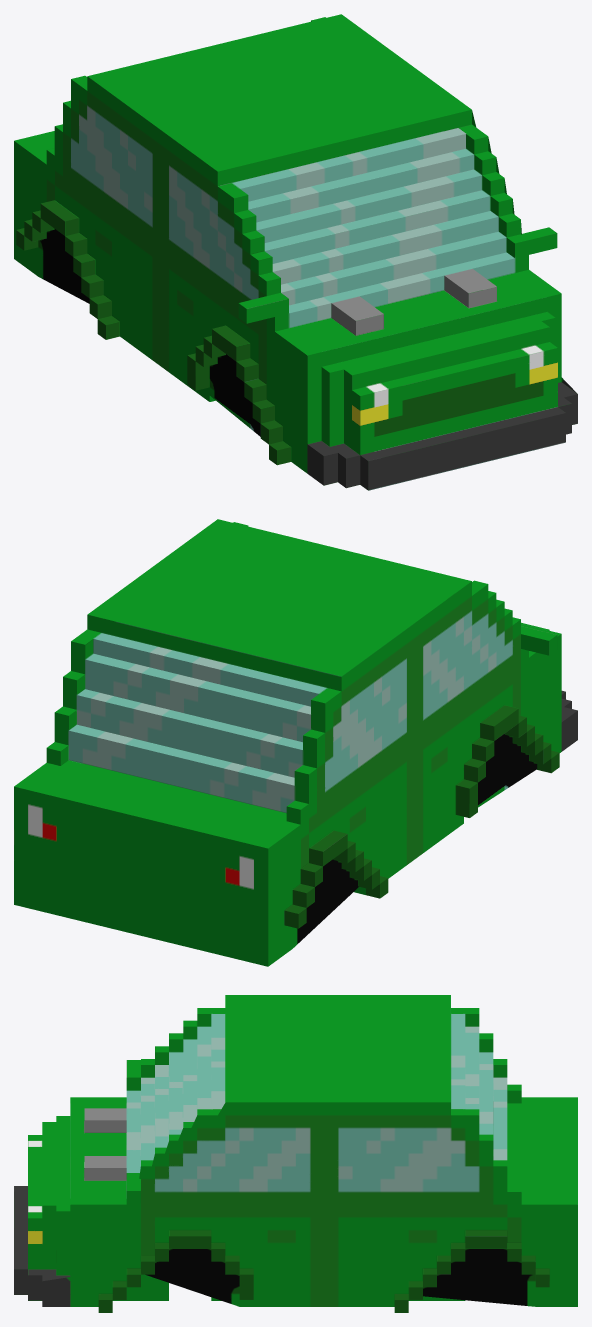
File: Car_Var1_3.obj
3 views of the same model, one above another, from view 1: azimuth 30°, elevation 25°; view 2: azimuth 150°, elevation 25°; view 3: azimuth 270°, elevation 25° (orthographic). The views are drawn at different scales.
Parts seen in each view (by area): view 1: Car_Var1_3_Car_Var1_3.001; view 2: Car_Var1_3_Car_Var1_3.001; view 3: Car_Var1_3_Car_Var1_3.001.
Part boxes in pixels (<box>): Car_Var1_3_Car_Var1_3.001: <box>14,14,577,490</box>; Car_Var1_3_Car_Var1_3.001: <box>14,519,577,966</box>; Car_Var1_3_Car_Var1_3.001: <box>14,995,577,1312</box>.
Bounding box in the file's own units: 2.2 × 1.6 × 4.
